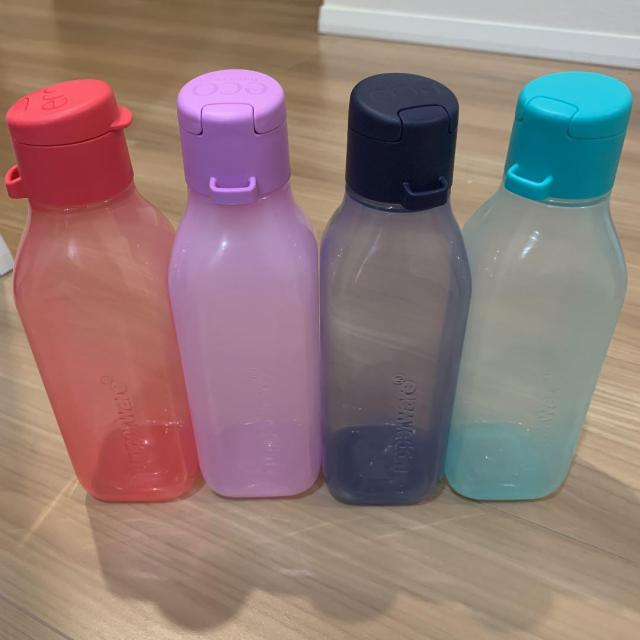plastic: (0, 68, 322, 506), (320, 66, 634, 502)
